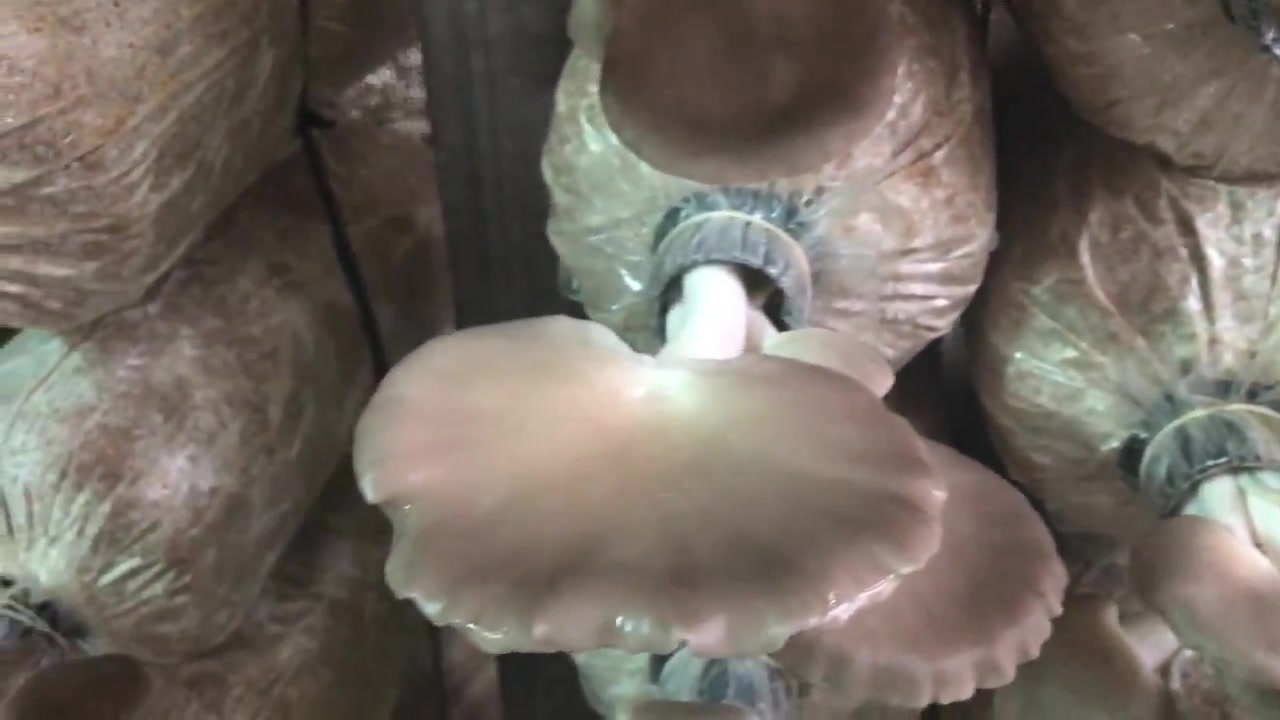nam: (349, 206, 949, 662), (993, 400, 1276, 720), (768, 438, 1074, 707), (595, 1, 903, 188)
